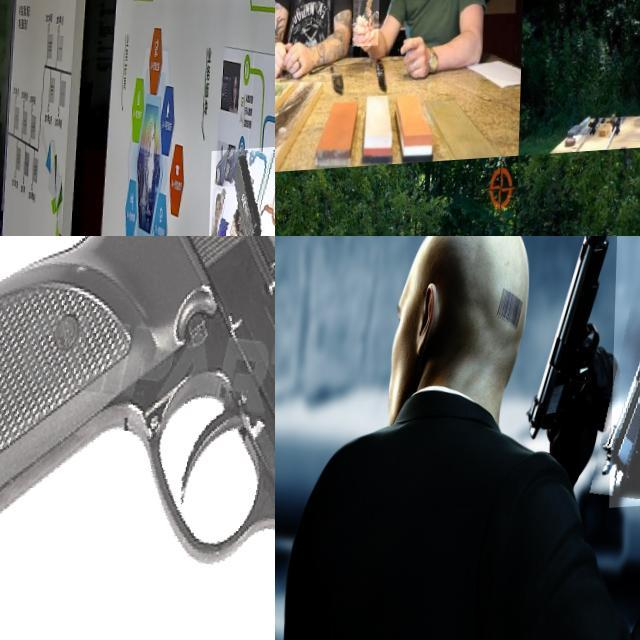-: (353, 0, 381, 49)
gun-knife-thesis - v11 Yolov5 augmented: (0, 236, 275, 640), (524, 236, 640, 446), (209, 151, 275, 236)
